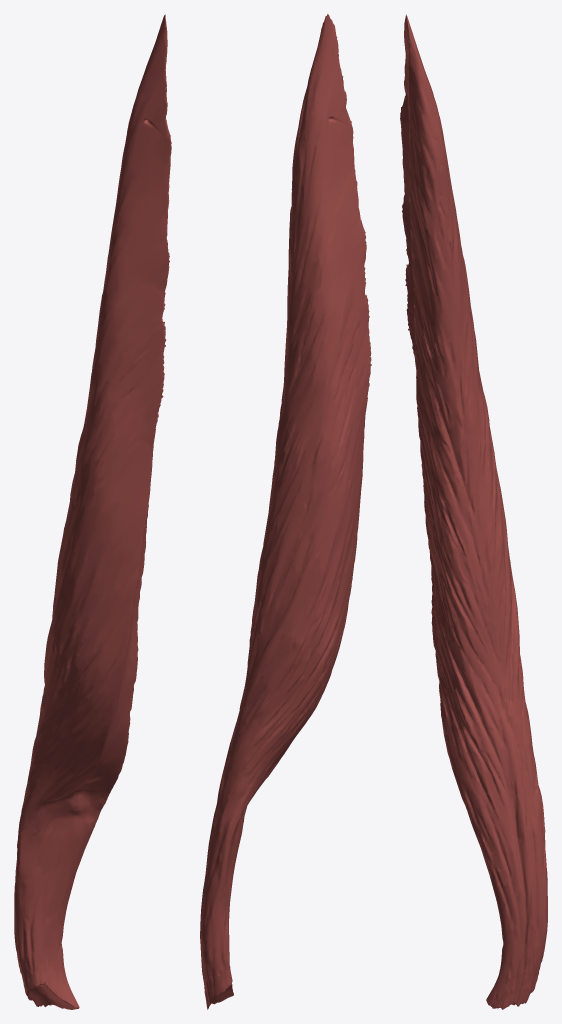
The model's file is FMA45892.glb.
3 renders of one model, left to right at view 1: azimuth 90°, elevation 25°; view 2: azimuth 150°, elevation 25°; view 3: azimuth 270°, elevation 25°, orthographic. The views are drawn at different scales.
Visible parts, largest first — view 1: FMA45892; view 2: FMA45892; view 3: FMA45892.
Boxes of the visible parts, box(x1,y1,x2,y2) form: FMA45892: box(14, 14, 171, 1009); FMA45892: box(200, 14, 371, 1009); FMA45892: box(400, 14, 547, 1009).
Size of the model in its own units: 0.0358 by 0.2911 by 0.0405.
